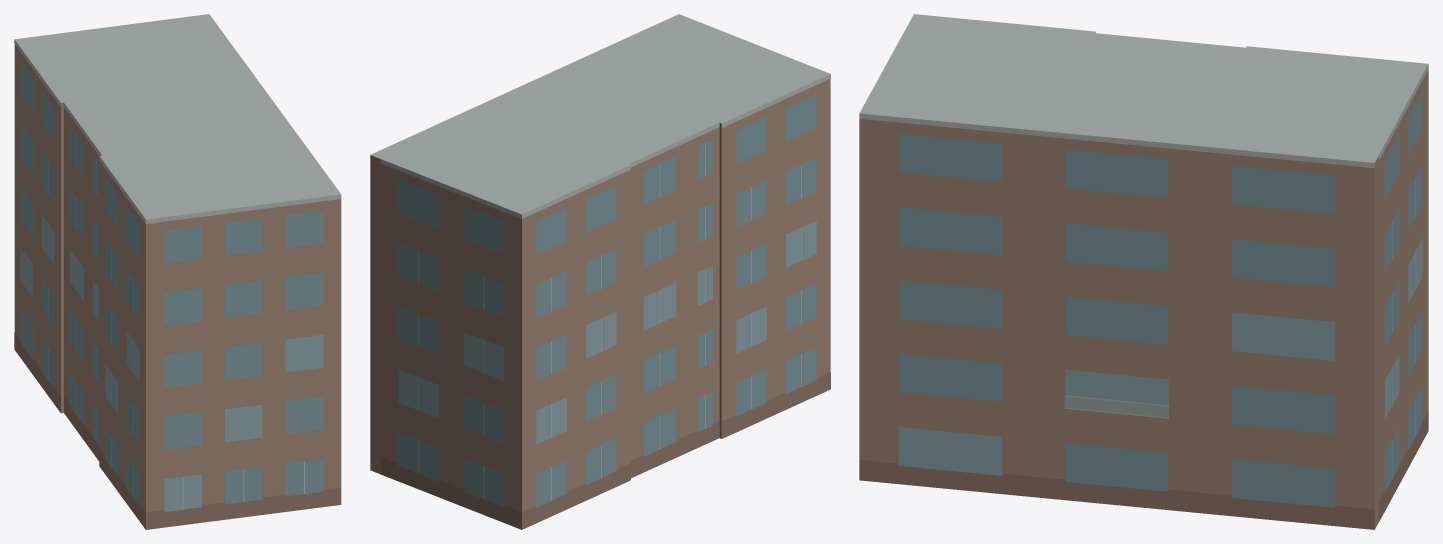
The model's file is survey-upis-32875015.glb.
3 renders of one model, left to right at view 1: azimuth 30°, elevation 25°; view 2: azimuth 150°, elevation 25°; view 3: azimuth 270°, elevation 25°, orthographic. The views are drawn at different scales.
Visible parts, largest first — view 1: survey-upis-32875015.tmp; view 2: survey-upis-32875015.tmp; view 3: survey-upis-32875015.tmp.
Boxes of the visible parts, x1,y1,x2,y2 form: survey-upis-32875015.tmp: [14, 14, 341, 529]; survey-upis-32875015.tmp: [370, 14, 830, 529]; survey-upis-32875015.tmp: [859, 14, 1428, 529].
Bounding box in the file's own units: 14.73 × 16.9 × 23.78.
